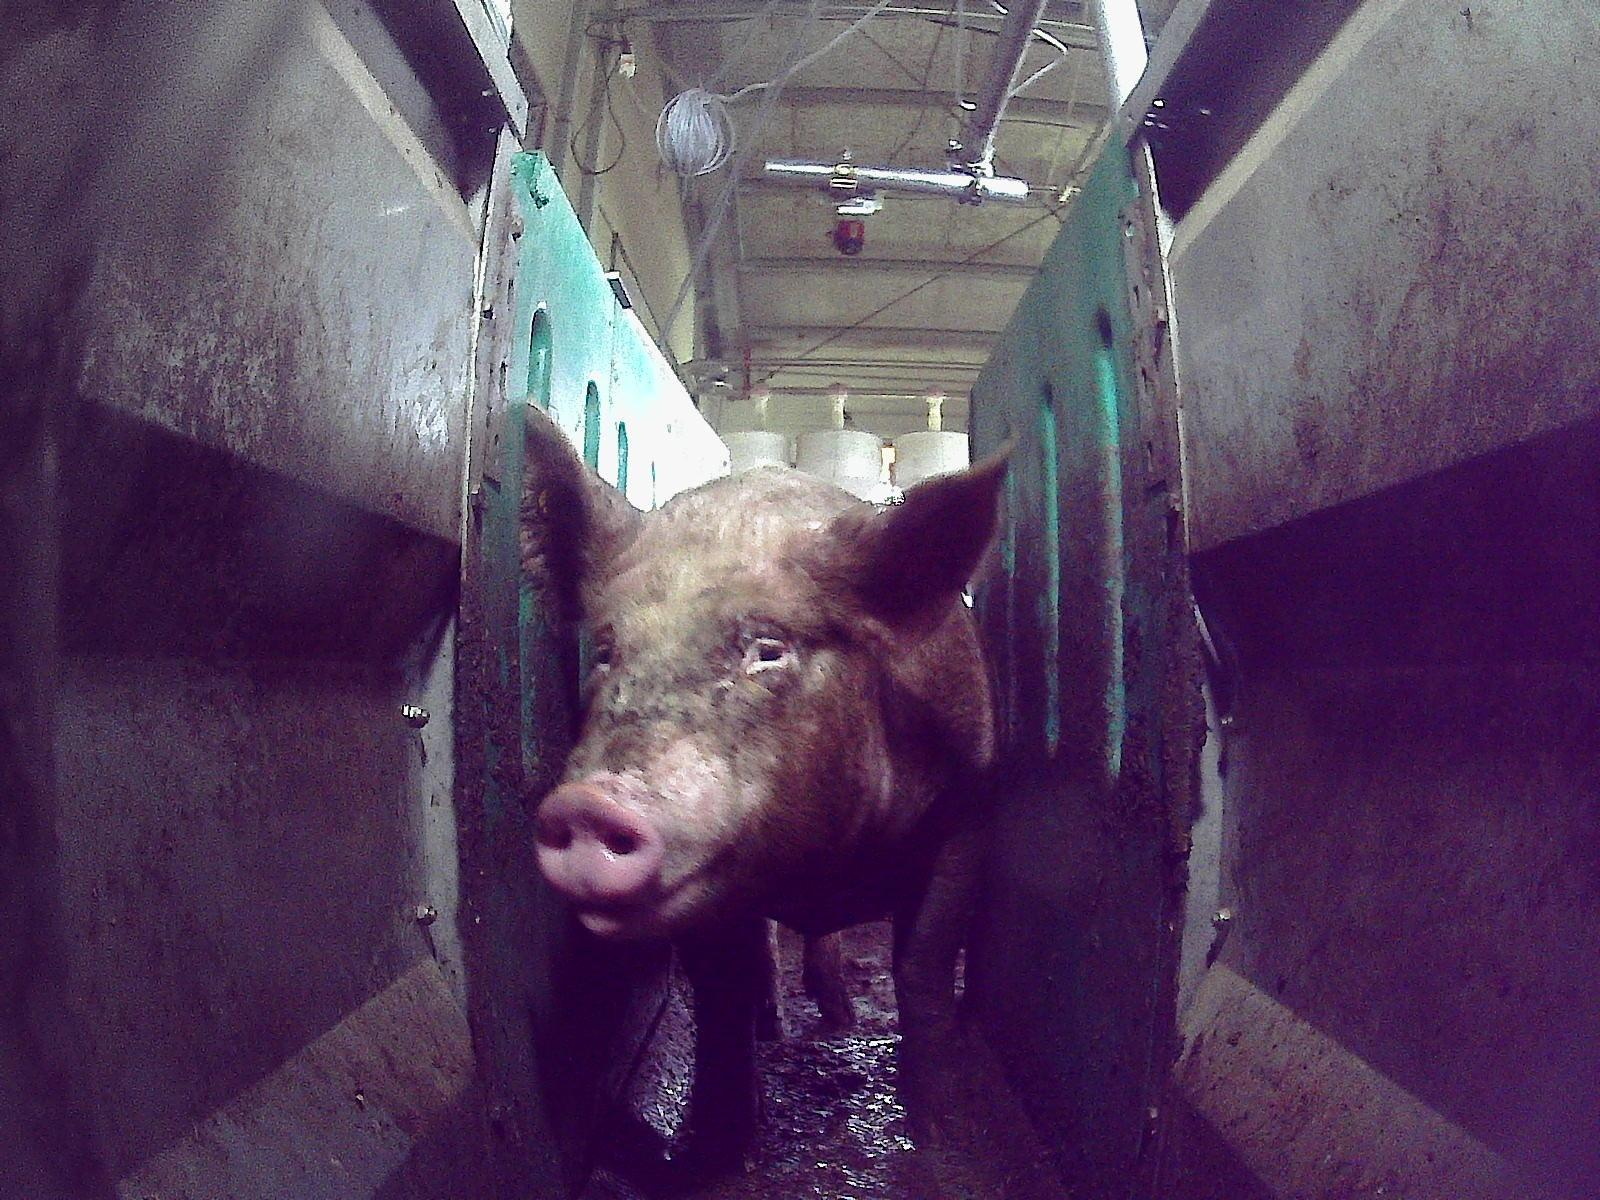Face: (533, 532, 863, 938)
